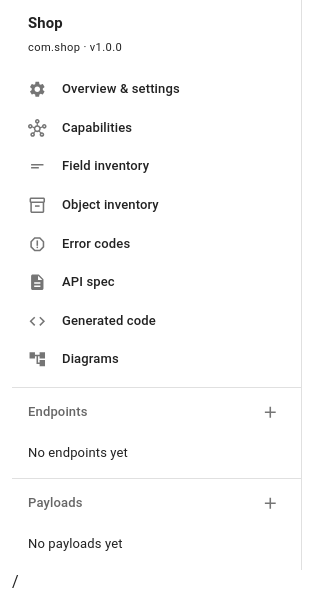
Test case: the left menu › leads to the overview, object inventory, API spec, generated code and diagrams
What coordinates should you click on to do the following:
click the button "Diagrams"
I would click on:
 (73, 360)
Its box is [28,350,119,369].
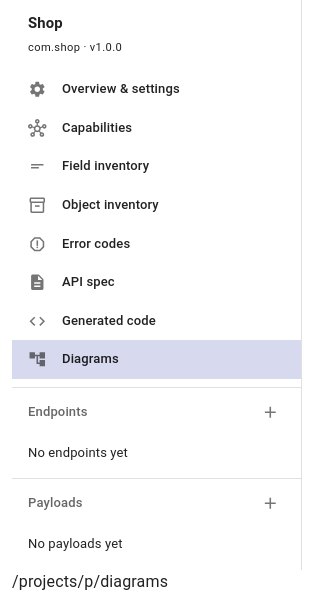
Result: the text named "Location" reads "/projects/p/diagrams" at [12,572,168,591]
What coordinates should you click on to do the following:
click the button "Generated code"
I would click on:
 (92, 321)
Its box is [28,312,156,330].
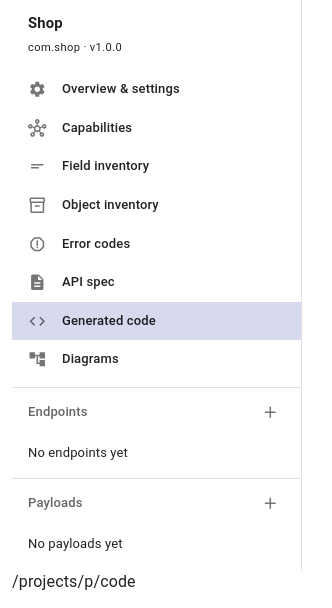
Result: the text named "Location" reads "/projects/p/code" at [12,572,136,591]
What coordinates should you click on to do the following:
click the button "Object inventory"
I would click on:
 (93, 205)
Its box is [28,196,159,215].
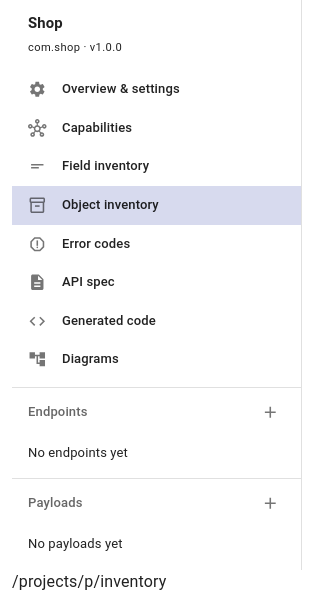
Result: the text named "Location" reads "/projects/p/inventory" at [12,572,166,591]
